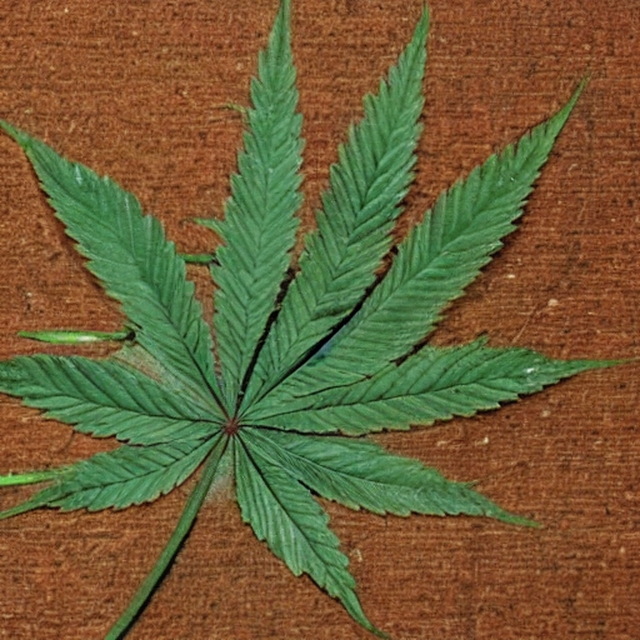Marijuana Leaf: (0, 0, 634, 639)
